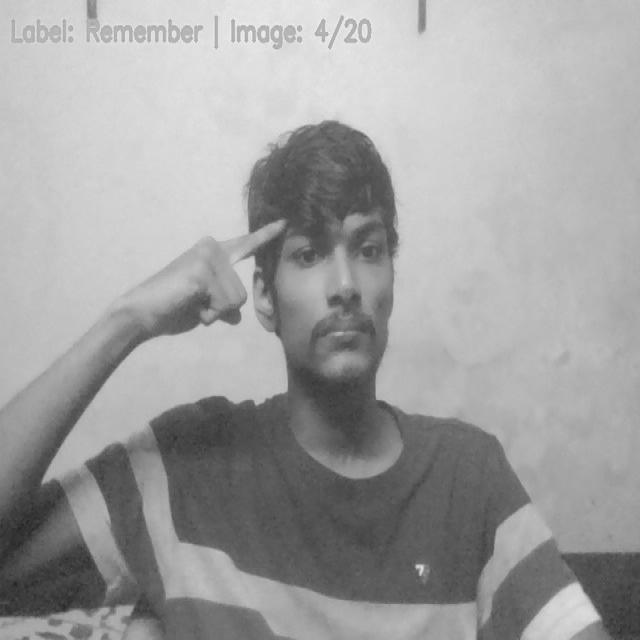Remember: (133, 195, 290, 347)
